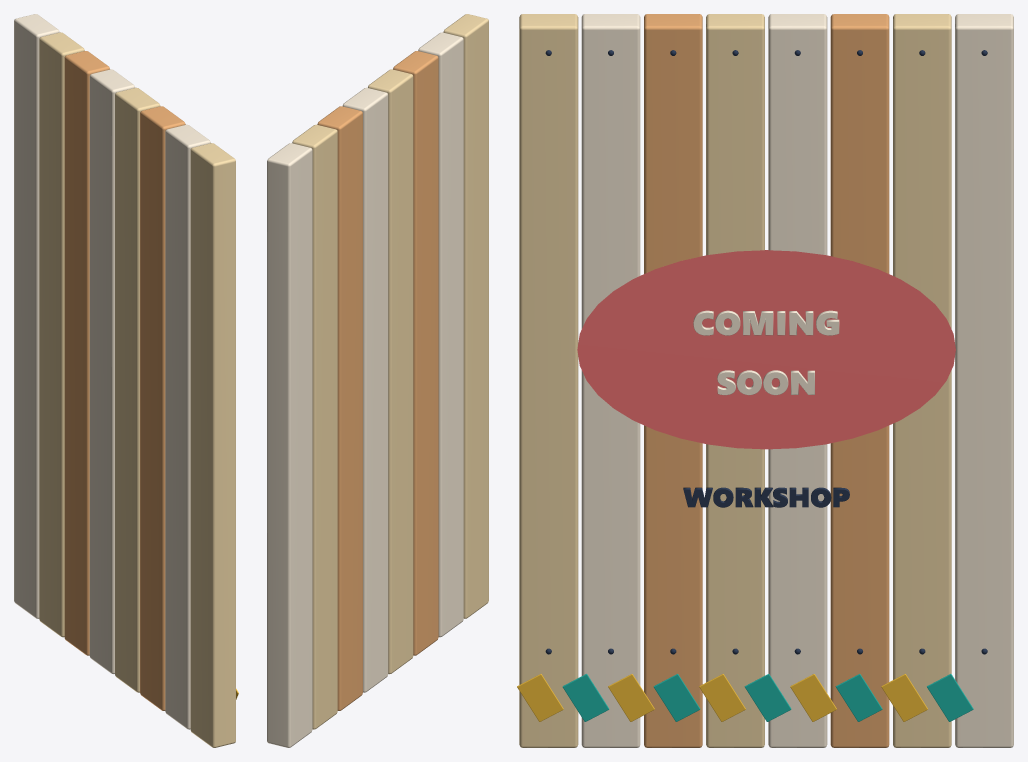
File: PartitionWorkshop.fbx
3 renders of one model, left to right at view 1: azimuth 30°, elevation 25°; view 2: azimuth 150°, elevation 25°; view 3: azimuth 270°, elevation 25°, orthographic. The views are drawn at different scales.
Parts seen in each view (by area): view 1: PartitionWorkshop mesh; view 2: PartitionWorkshop mesh; view 3: PartitionWorkshop mesh.
Boxes of the visible parts, bbox=[...] form: PartitionWorkshop mesh: bbox=[14, 14, 238, 747]; PartitionWorkshop mesh: bbox=[267, 14, 488, 747]; PartitionWorkshop mesh: bbox=[517, 14, 1013, 747].
Bounding box in the file's own units: 0.1395 × 2.8 × 1.75.
